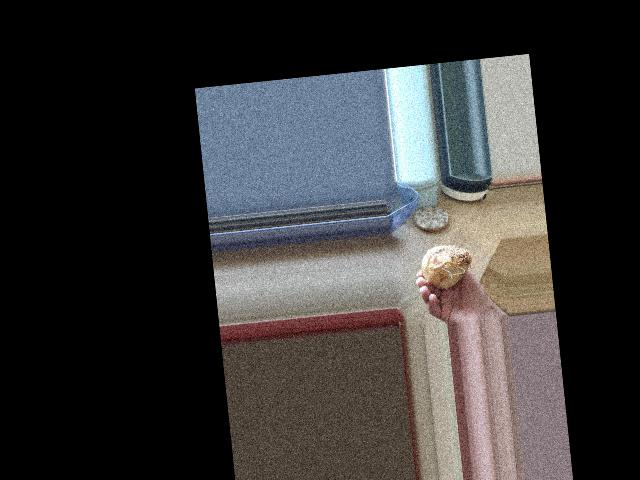onion: (417, 237, 471, 291)
